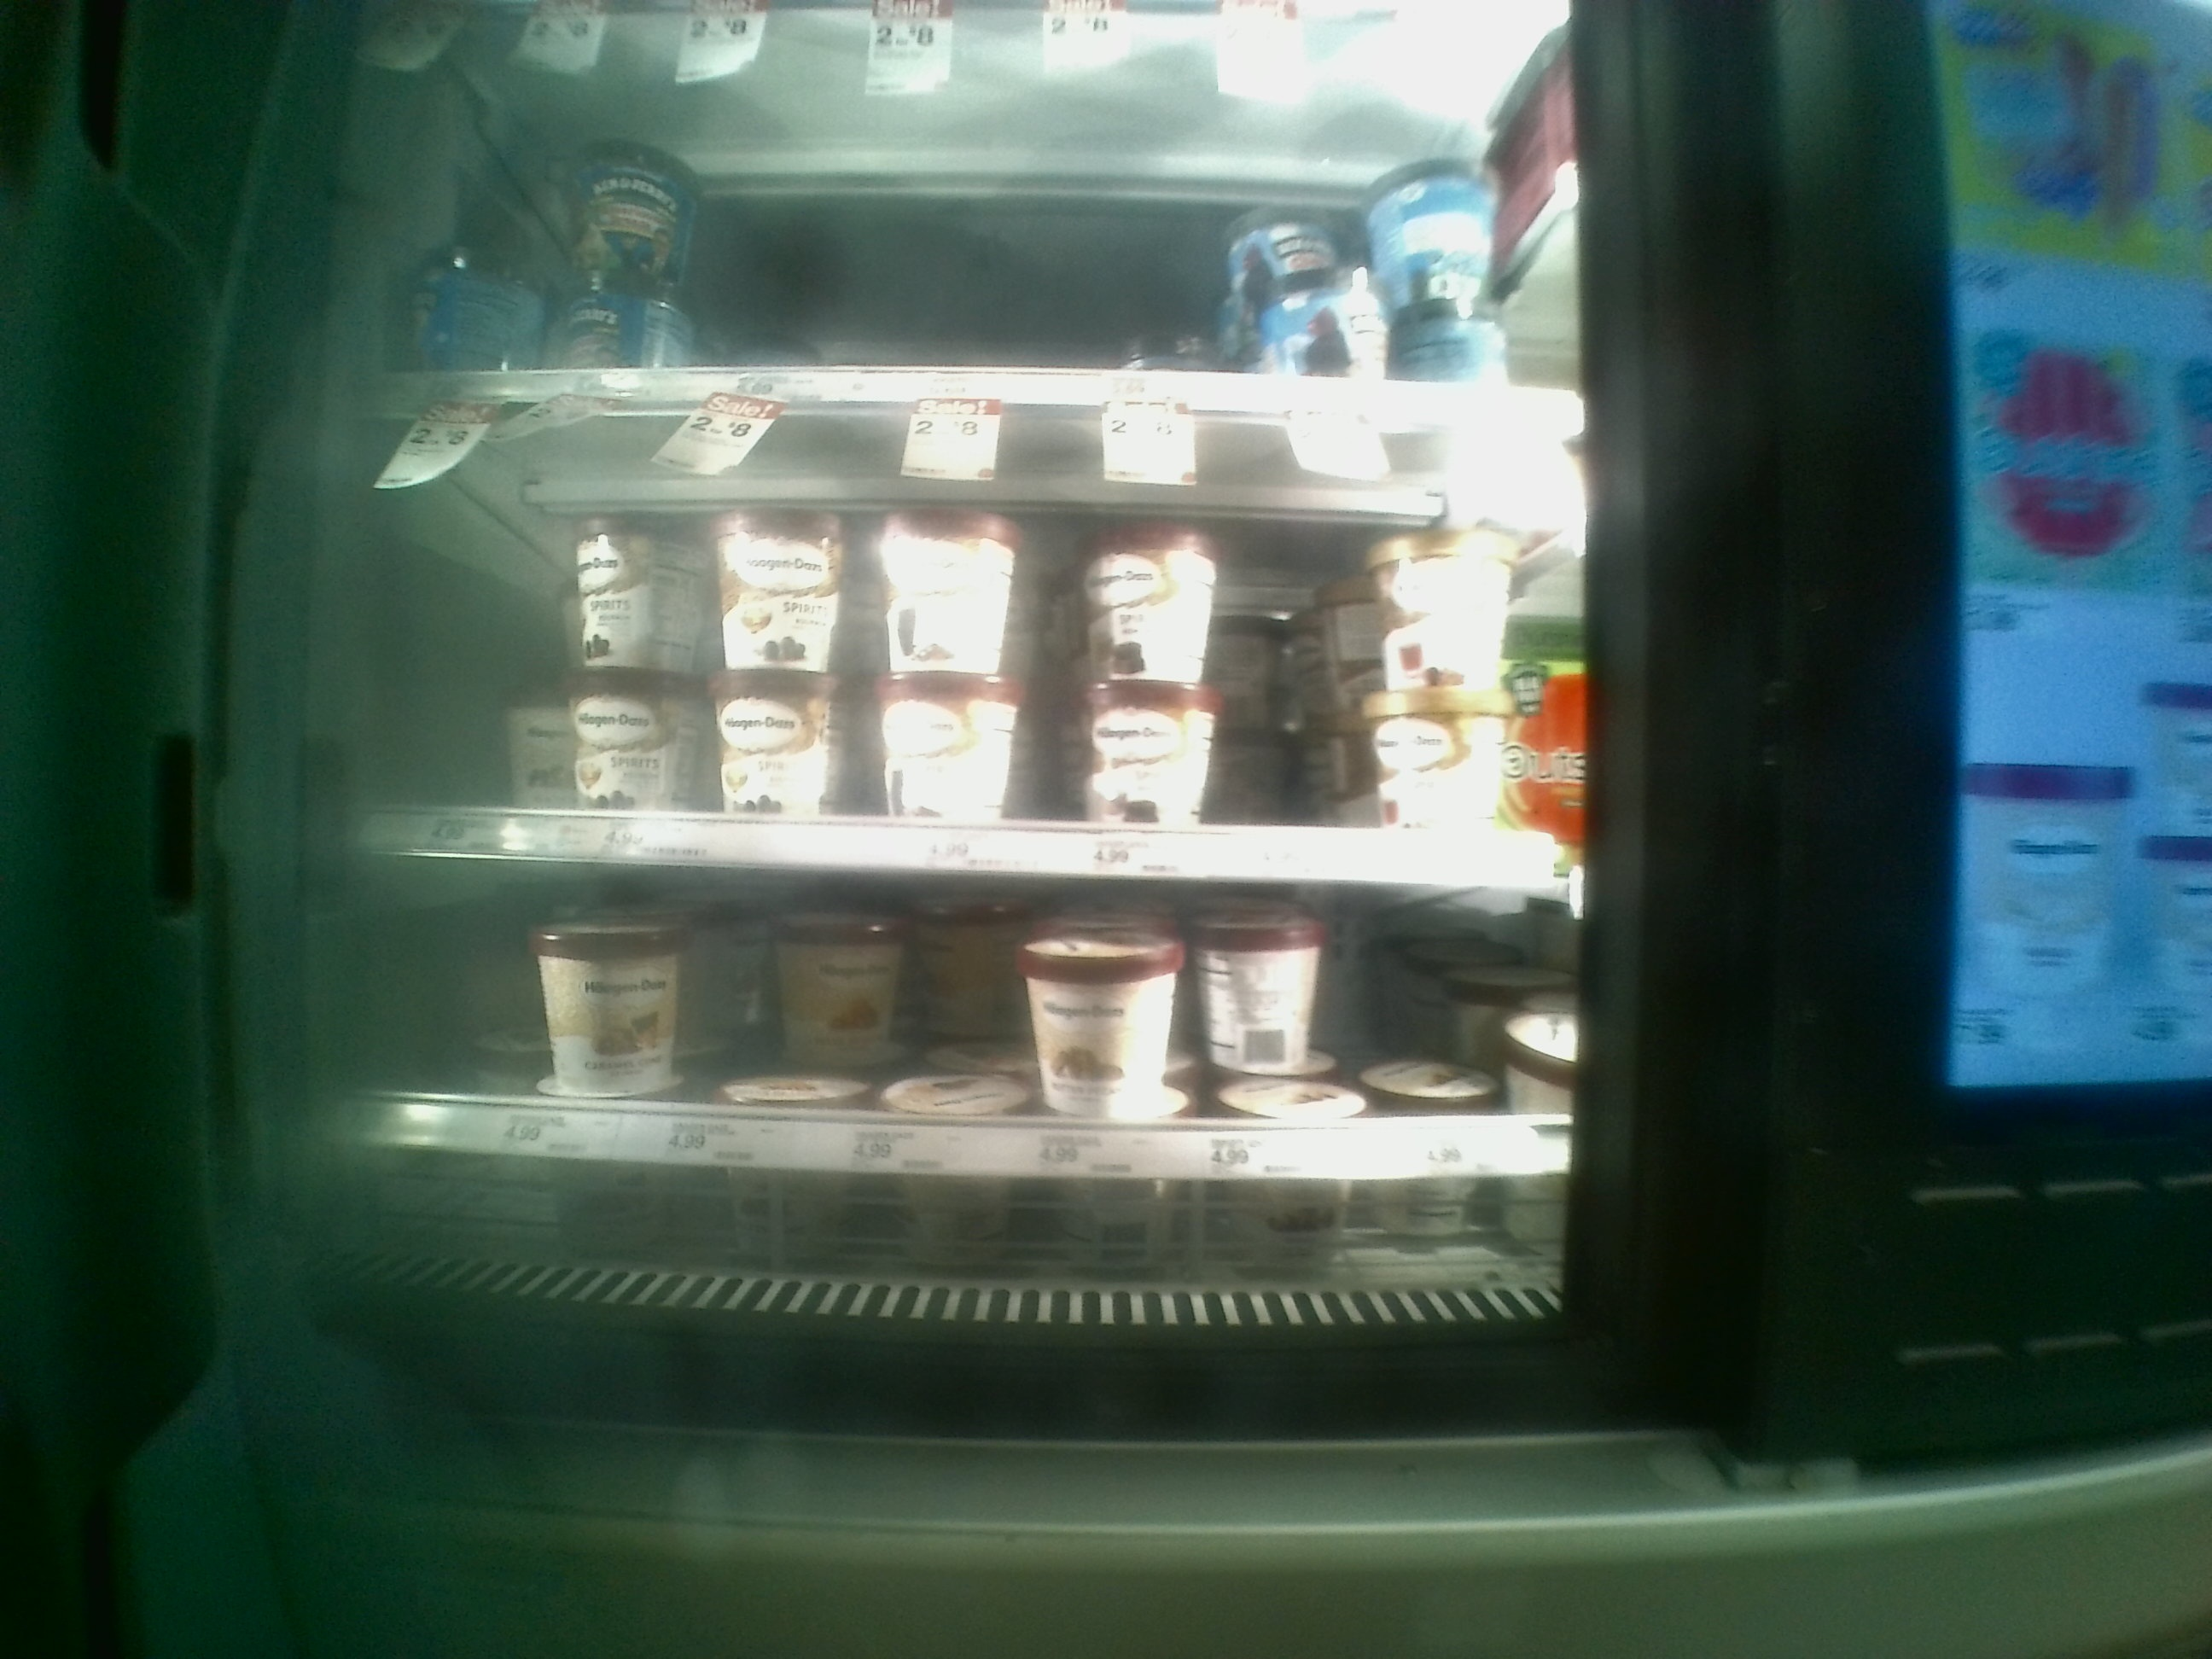shelf: (350, 413, 1581, 878), (347, 877, 1588, 1248)
